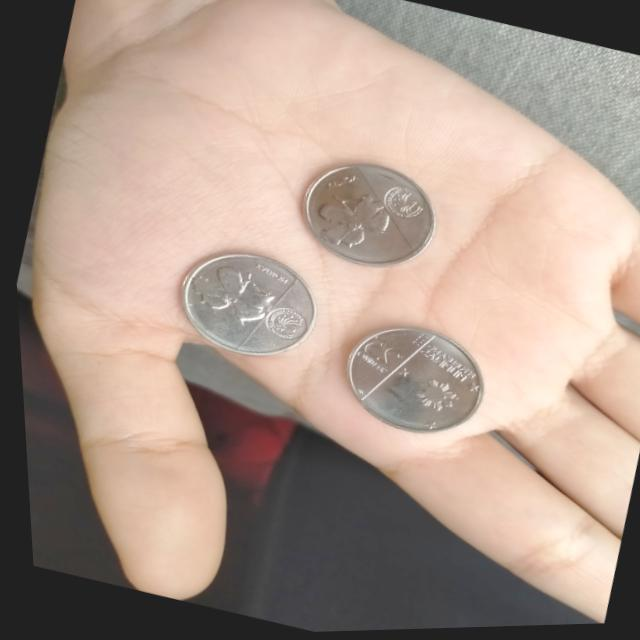25Cent_New_Back: (173, 247, 286, 336), (303, 184, 404, 263)
25Cent_New_Front: (347, 327, 411, 386)
